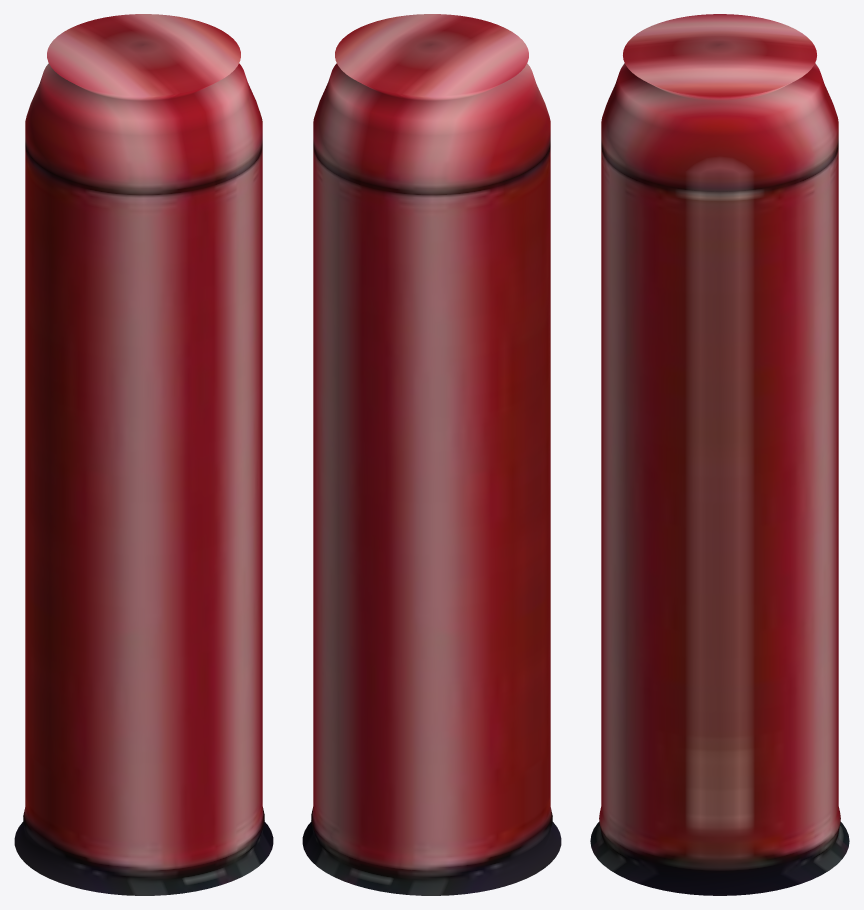
The picture shows the model from 3 angles, left to right: view 1: azimuth 30°, elevation 25°; view 2: azimuth 150°, elevation 25°; view 3: azimuth 270°, elevation 25°; orthographic projection.
Visible parts, largest first — view 1: RC-101; view 2: RC-101; view 3: RC-101.
Boxes of the visible parts, left/top/right/bottom form: RC-101: left=14, top=14, right=273, bottom=895; RC-101: left=302, top=14, right=561, bottom=895; RC-101: left=590, top=14, right=849, bottom=895.
Size of the model in its own units: 7.35 by 24.9 by 7.35.
Materials: 1 (1 with a texture image).
